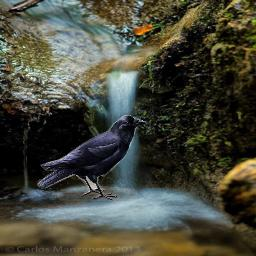Crow: (37, 115, 146, 201)
